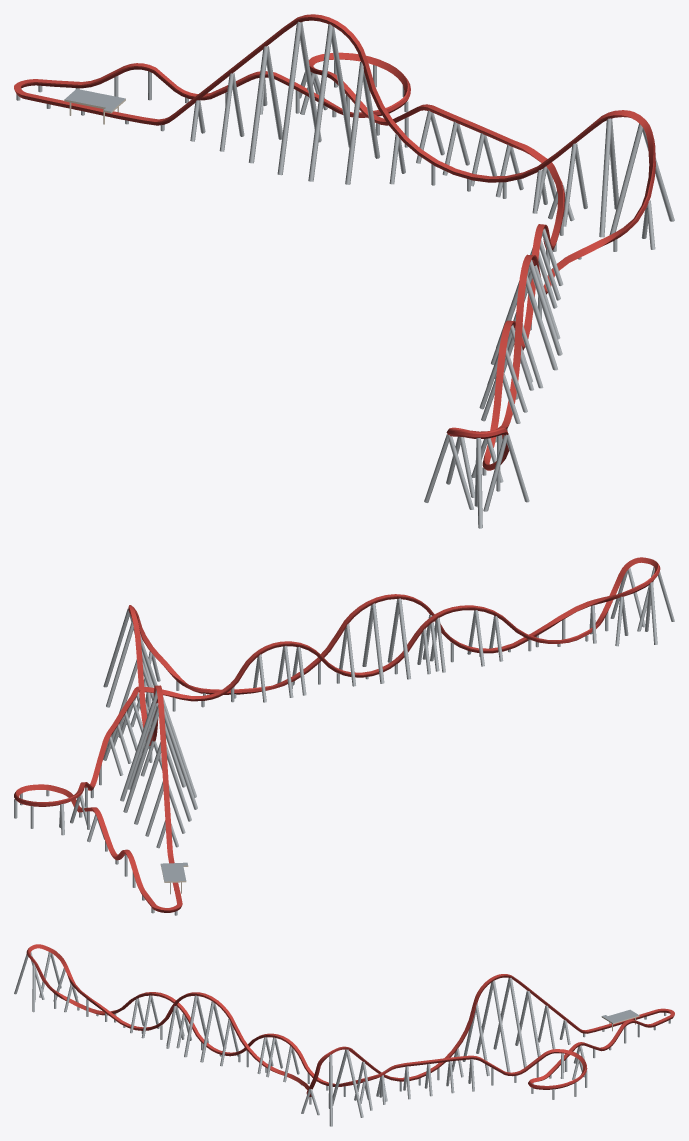
File: detail.glb
3 views of the same model, one above another, from view 1: azimuth 30°, elevation 25°; view 2: azimuth 150°, elevation 25°; view 3: azimuth 270°, elevation 25° (orthographic). The views are drawn at different scales.
Visible parts, largest first — view 1: thunder-striker-carowinds; view 2: thunder-striker-carowinds; view 3: thunder-striker-carowinds.
Part boxes in pixels (left/top/right/bottom): thunder-striker-carowinds: left=14, top=14, right=674, bottom=528; thunder-striker-carowinds: left=14, top=557, right=674, bottom=915; thunder-striker-carowinds: left=14, top=944, right=674, bottom=1126.
Bounding box in the file's own units: 248 × 75.33 × 502.
